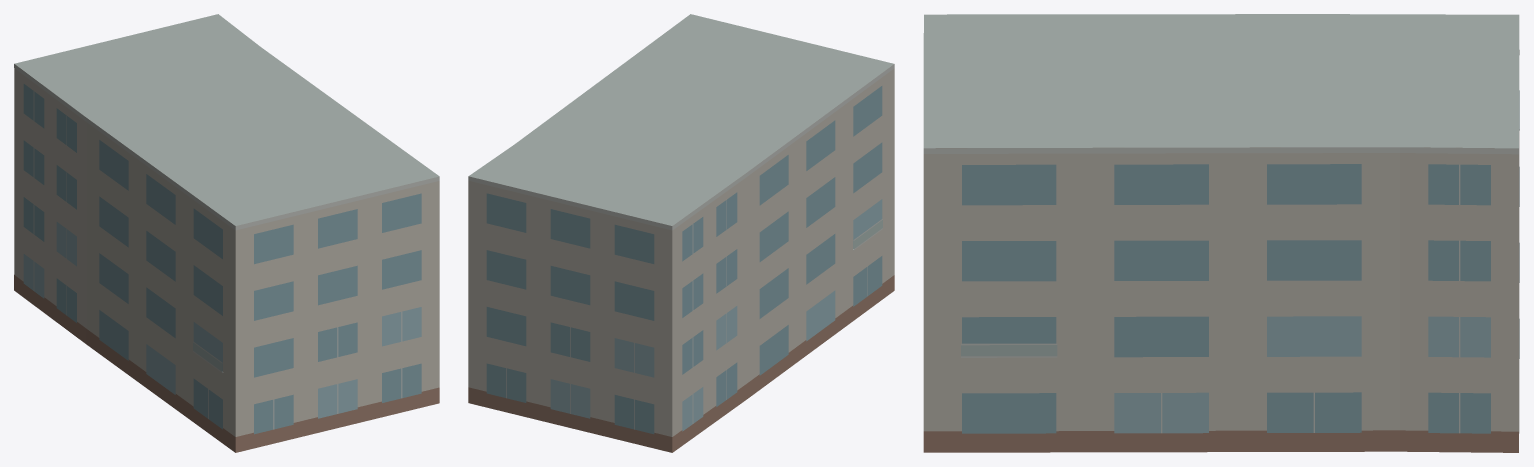
File: survey-upis-32532326.glb
3 renders of one model, left to right at view 1: azimuth 30°, elevation 25°; view 2: azimuth 150°, elevation 25°; view 3: azimuth 270°, elevation 25°, orthographic. The views are drawn at different scales.
Visible parts, largest first — view 1: survey-upis-32532326.tmp; view 2: survey-upis-32532326.tmp; view 3: survey-upis-32532326.tmp.
Part boxes in pixels (x1,y1,x2,y2): survey-upis-32532326.tmp: (14, 14, 439, 452); survey-upis-32532326.tmp: (468, 14, 894, 452); survey-upis-32532326.tmp: (923, 14, 1519, 452).
Size of the model in its own units: 12.04 by 12.7 by 22.54.
